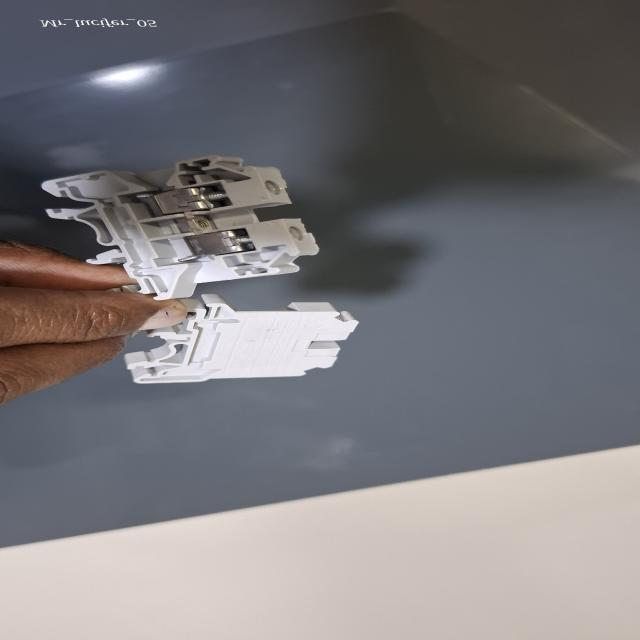Inverted: (122, 295, 360, 385)
Pass: (37, 156, 326, 304)
